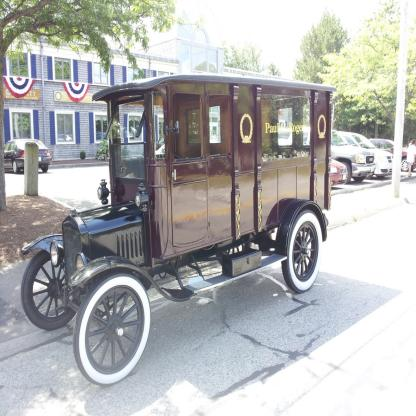Car: (21, 75, 338, 388), (338, 132, 395, 180), (332, 131, 376, 184), (4, 139, 53, 176), (371, 138, 416, 174), (330, 157, 350, 188)
